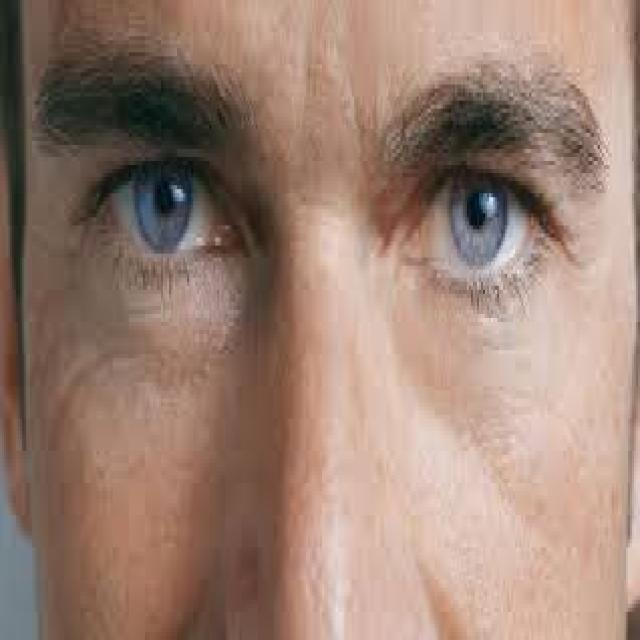Eyes-iris: (125, 144, 196, 272), (445, 160, 513, 285)
